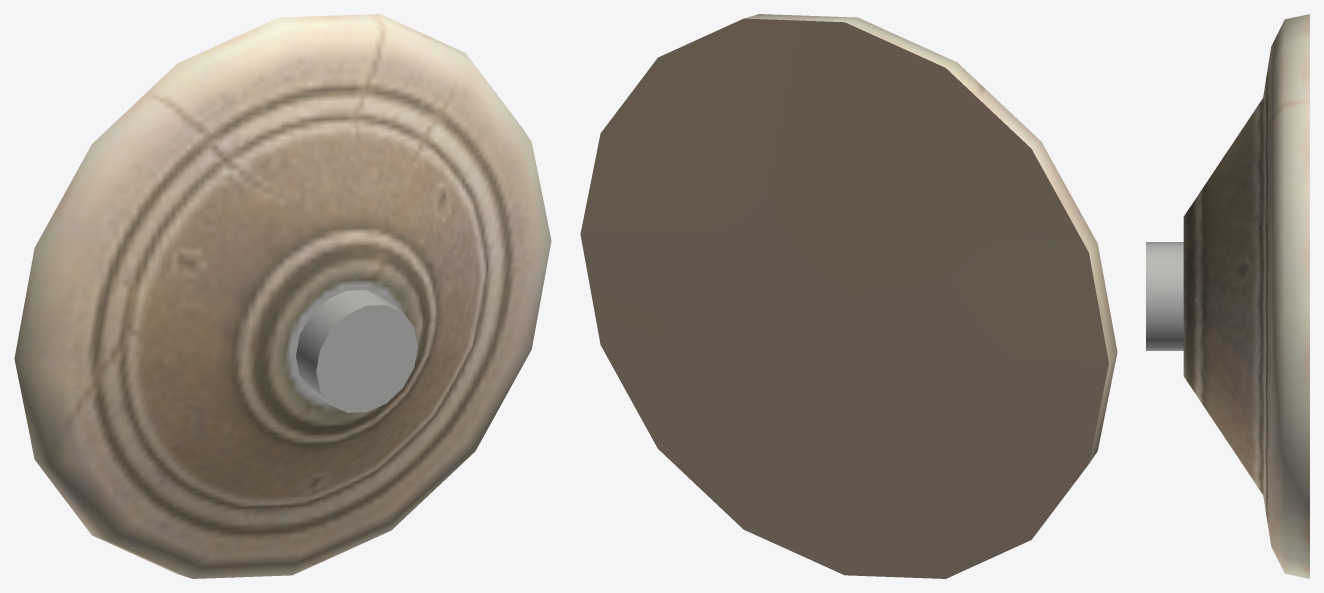
File: Garden_Door_Bell.FBX
3 views of the same model, side by side, from view 1: azimuth 30°, elevation 25°; view 2: azimuth 150°, elevation 25°; view 3: azimuth 270°, elevation 25° (orthographic). The views are drawn at different scales.
Parts seen in each view (by area): view 1: Garden_Door_Bell; view 2: Garden_Door_Bell; view 3: Garden_Door_Bell.
Part boxes in pixels (left/top/right/bottom): Garden_Door_Bell: left=14, top=14, right=551, bottom=578; Garden_Door_Bell: left=580, top=14, right=1117, bottom=578; Garden_Door_Bell: left=1146, top=14, right=1309, bottom=578.
Size of the model in its own units: 8 by 8 by 2.32.
